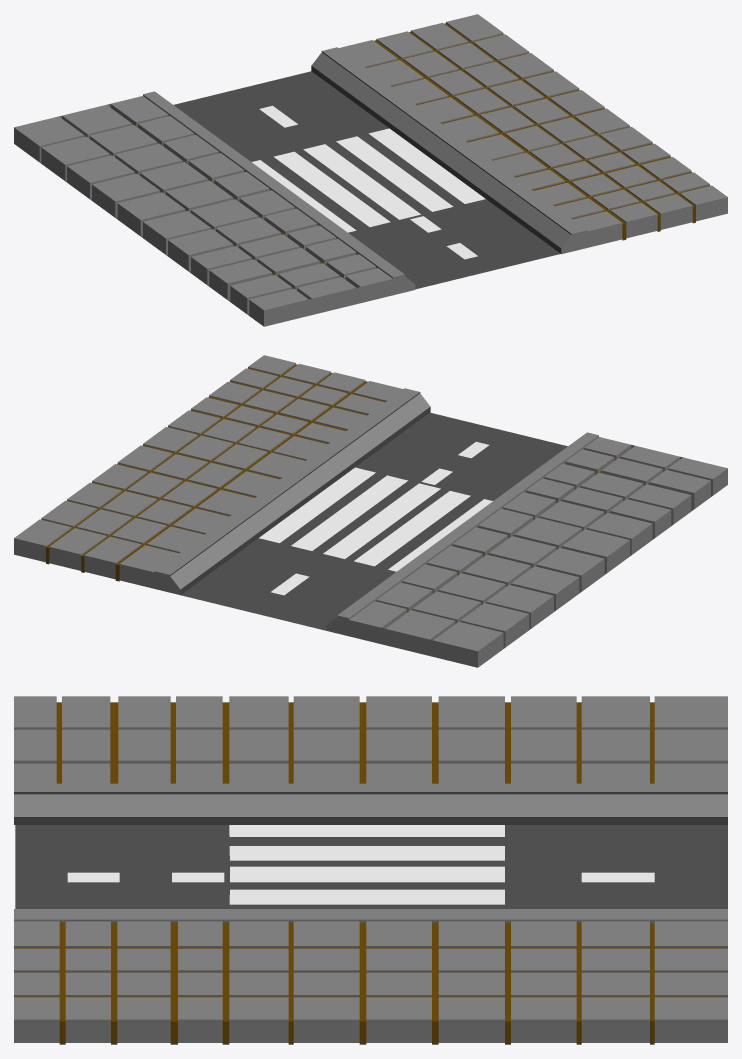
Rendered from weg_met _zebrapad.fbx.
3 renders of one model, top to bottom at view 1: azimuth 30°, elevation 25°; view 2: azimuth 150°, elevation 25°; view 3: azimuth 270°, elevation 25°, orthographic. The views are drawn at different scales.
Visible parts, largest first — view 1: Plane; view 2: Plane; view 3: Plane.
Part boxes in pixels (bbox=[...]): Plane: bbox=[14, 14, 727, 326]; Plane: bbox=[14, 355, 727, 667]; Plane: bbox=[14, 696, 727, 1044].
Bounding box in the file's own units: 2192 × 87.5 × 2046.
